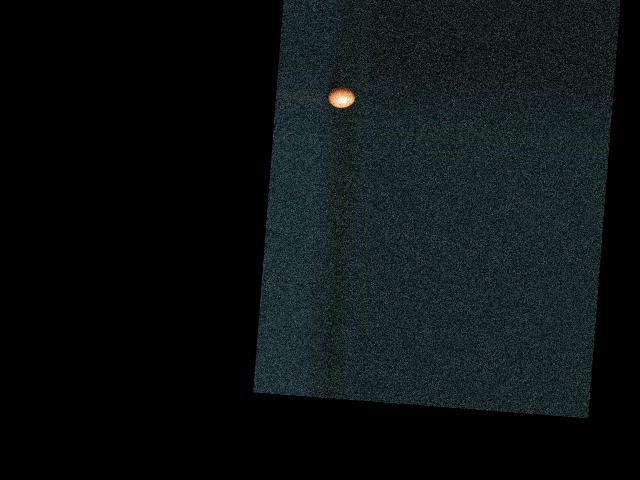egg: (326, 85, 355, 108)
